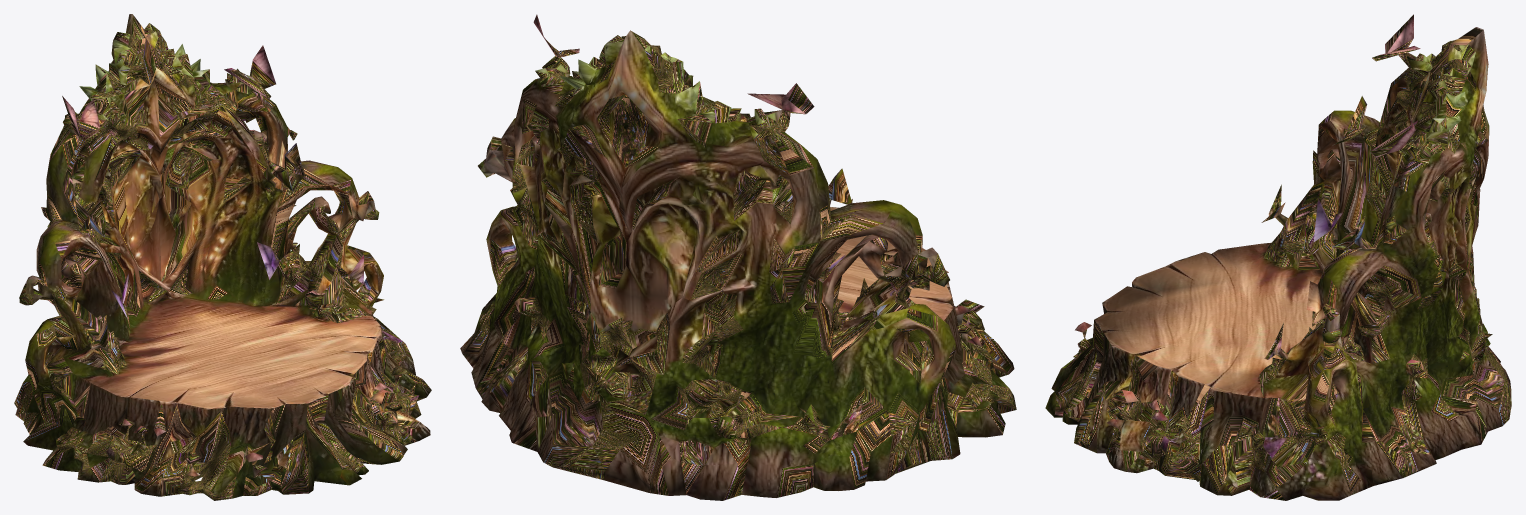
Rendered from Enchanted_Forest_Thro.glb.
The picture shows the model from 3 angles, left to right: view 1: azimuth 30°, elevation 25°; view 2: azimuth 150°, elevation 25°; view 3: azimuth 270°, elevation 25°; orthographic projection. The views are drawn at different scales.
Parts seen in each view (by area): view 1: Enchanted_Forest_Thro; view 2: Enchanted_Forest_Thro; view 3: Enchanted_Forest_Thro.
Boxes of the visible parts, x1,y1,x2,y2 form: Enchanted_Forest_Thro: [14, 14, 431, 500]; Enchanted_Forest_Thro: [460, 14, 1016, 500]; Enchanted_Forest_Thro: [1045, 14, 1511, 500].
Size of the model in its own units: 1.9 by 1.61 by 1.83.
Materials: 1 (1 with a texture image).
